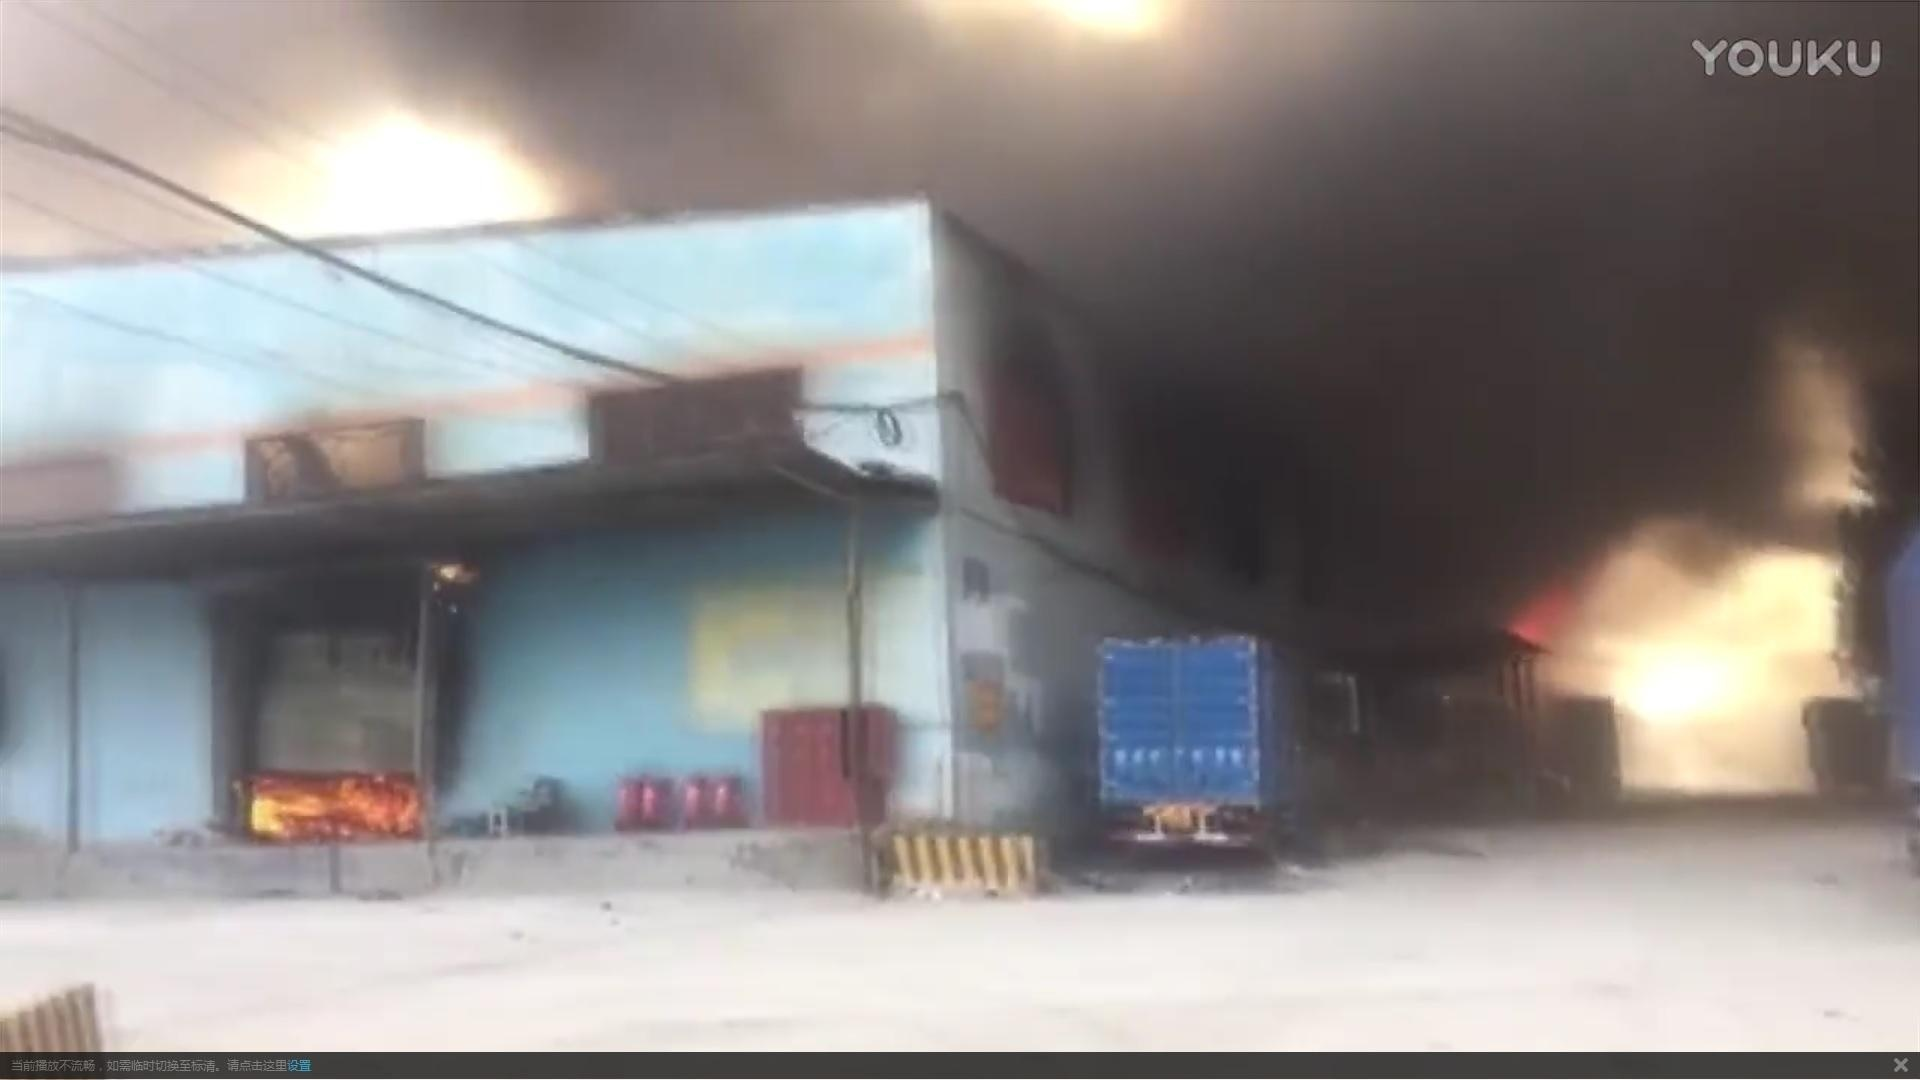fire: (1597, 547, 1834, 727), (237, 767, 430, 837)
